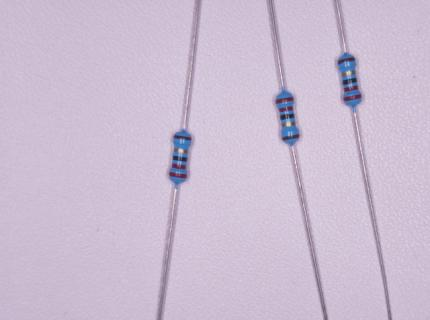Red band: (344, 94, 362, 101), (276, 97, 293, 104), (172, 163, 186, 170), (169, 173, 187, 178), (279, 106, 294, 112), (344, 86, 358, 92)
